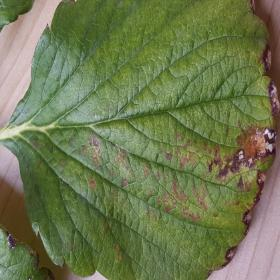Angular Leafspot: (30, 41, 279, 269)
